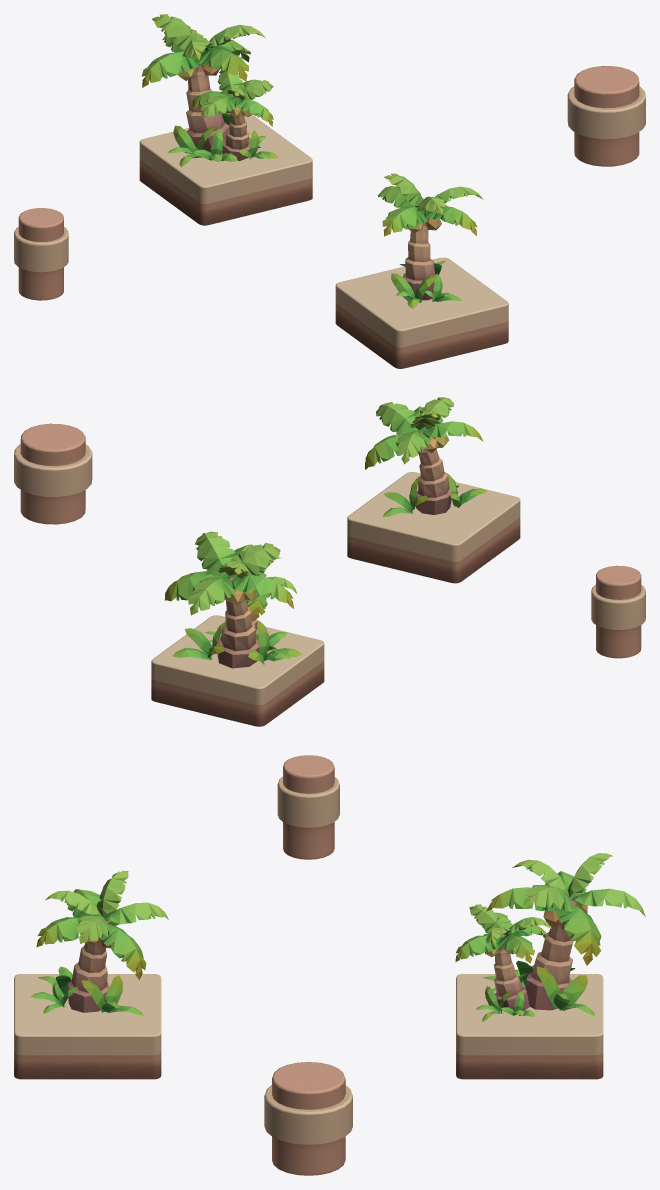
File: Props.fbx
3 renders of one model, top to bottom at view 1: azimuth 30°, elevation 25°; view 2: azimuth 150°, elevation 25°; view 3: azimuth 270°, elevation 25°, orthographic. The views are drawn at different scales.
Parts seen in each view (by area): view 1: Box02, yezishu01, Box02 (1), Cylinder, yezishu02, Cylinder-2; view 2: Box02, Box02 (1), yezishu01, yezishu02, Cylinder, Cylinder-2; view 3: yezishu01, Box02, Box02 (1), yezishu02, Cylinder, Cylinder-2.
Boxes of the visible parts, x1,y1,x2,y2 form: Box02: [335, 257, 508, 368]; yezishu01: [141, 14, 278, 167]; Box02 (1): [139, 115, 312, 225]; Cylinder: [567, 66, 645, 166]; yezishu02: [377, 173, 483, 308]; Cylinder-2: [14, 208, 68, 300]; Box02: [347, 472, 520, 583]; Box02 (1): [151, 615, 324, 726]; yezishu01: [164, 531, 301, 668]; yezishu02: [365, 397, 487, 517]; Cylinder: [14, 423, 92, 524]; Cylinder-2: [591, 565, 645, 658]; yezishu01: [455, 853, 645, 1021]; Box02: [14, 974, 161, 1079]; Box02 (1): [456, 974, 603, 1079]; yezishu02: [31, 870, 168, 1015]; Cylinder: [264, 1062, 352, 1175]; Cylinder-2: [277, 755, 339, 859].
Bounding box in the file's own units: 44.1 × 10.64 × 34.31.
3 materials, 3 textured.
